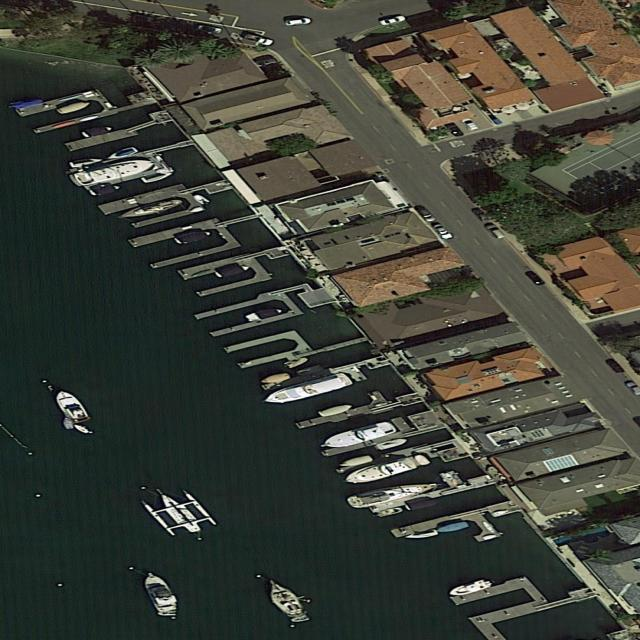ship: (134, 483, 219, 538), (257, 371, 354, 407), (345, 478, 441, 511), (70, 157, 157, 187), (316, 421, 399, 451), (339, 457, 420, 487), (259, 577, 310, 618), (138, 571, 181, 613), (117, 197, 185, 220), (51, 390, 92, 424), (446, 579, 494, 597), (173, 229, 214, 245), (244, 307, 285, 322), (213, 264, 251, 279), (318, 403, 355, 418), (57, 100, 93, 115), (78, 125, 116, 139), (375, 436, 410, 451), (403, 498, 442, 511), (104, 147, 140, 161), (338, 455, 374, 469), (87, 184, 122, 197), (436, 521, 471, 534), (259, 372, 292, 385), (404, 529, 439, 541), (282, 356, 312, 369), (374, 506, 404, 519), (70, 157, 104, 168), (12, 98, 44, 109), (191, 194, 212, 206), (73, 424, 91, 434), (62, 417, 75, 430)
small-vehicle: (602, 358, 627, 375), (243, 34, 275, 47), (432, 224, 454, 240), (524, 271, 546, 286), (471, 208, 491, 223), (445, 123, 465, 138), (459, 117, 479, 132), (486, 225, 506, 240), (380, 15, 407, 26), (195, 24, 224, 34), (417, 209, 437, 223), (284, 17, 313, 26)
